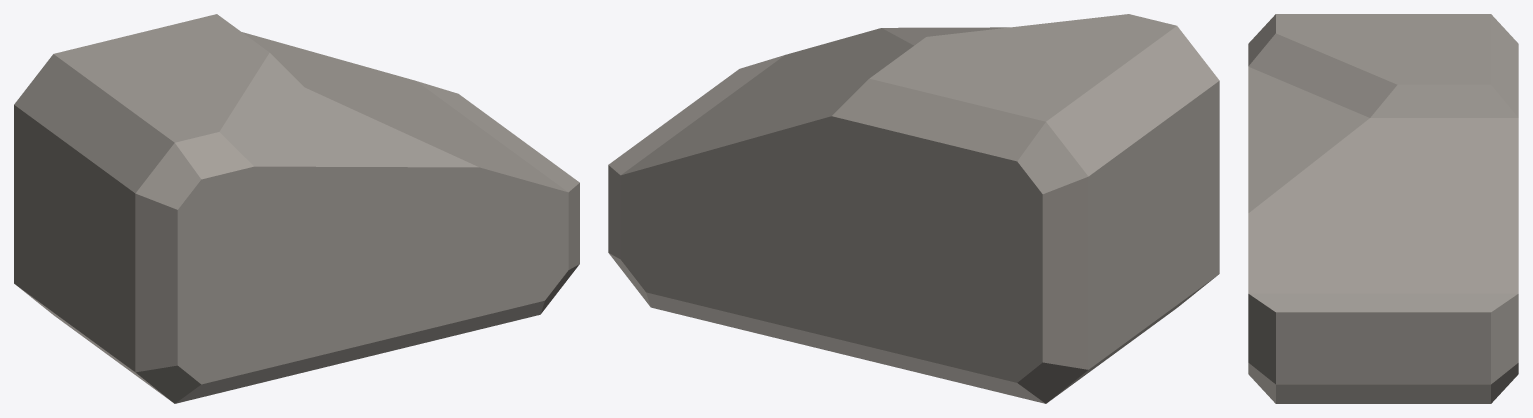
File: Brick 04.FBX
3 views of the same model, side by side, from view 1: azimuth 30°, elevation 25°; view 2: azimuth 150°, elevation 25°; view 3: azimuth 270°, elevation 25° (orthographic). The views are drawn at different scales.
Visible parts, largest first — view 1: Brick 04; view 2: Brick 04; view 3: Brick 04.
Part boxes in pixels (x1,y1,x2,y2): Brick 04: [14, 14, 579, 403]; Brick 04: [608, 14, 1219, 403]; Brick 04: [1248, 14, 1518, 403].
Size of the model in its own units: 59.65 by 33.5 by 35.42.
1 material, 1 textured.
